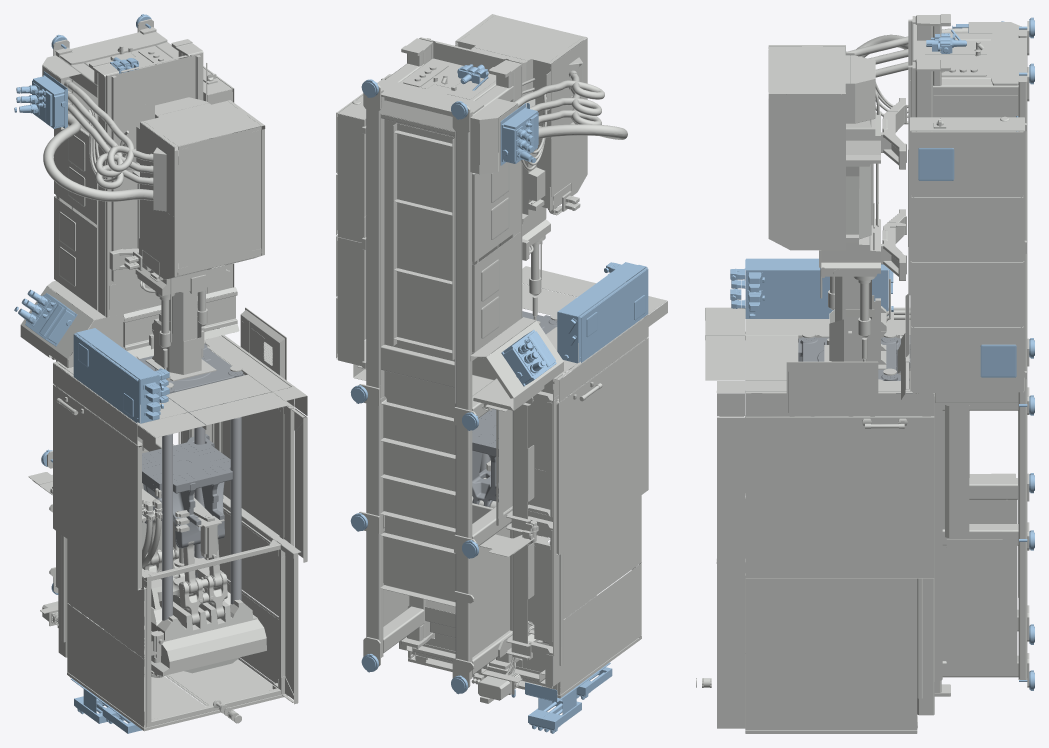
The model's file is imm-px-120.glb.
The picture shows the model from 3 angles, left to right: view 1: azimuth 30°, elevation 25°; view 2: azimuth 150°, elevation 25°; view 3: azimuth 270°, elevation 25°; orthographic projection. The views are drawn at different scales.
Parts seen in each view (by area): view 1: PX_0120-00380_M3_623035_ASM_mesh, PX_0120_M1_623035_ASM_mesh, PX_00380_M5_623035_ASM_mesh, 20884976_ASM_mesh, PX_0120-00380_M7_623035_ASM_mesh, 20861177_mesh, PX_ZE88-53004_88-53032_623035_ASM_mesh, 20893171_mesh, PX_0120_M8_623035_ASM_mesh, 20861819_mesh, 90522870_mesh, PX_0120-00380_C2_623035_ASM_mesh (+14 smaller); view 2: PX_0120_M1_623035_ASM_mesh, PX_0120-00380_M3_623035_ASM_mesh, PX_0120-00380_C2_623035_ASM_mesh, 20884976_ASM_mesh, PX_00380_M5_623035_ASM_mesh, PX_0120_C6_623035_ASM_mesh, PX_0120-00380_M7_623035_ASM_mesh, PX_ZE88-53004_88-53032_623035_ASM_mesh, 20893171_mesh, PX_0120_ZE02-508_623035_ASM_mesh, PX_SA200_623035_ASM_mesh, PX_0120_M2_M40_623035_ASM_mesh (+5 smaller); view 3: PX_0120-00380_M3_623035_ASM_mesh, PX_0120_M1_623035_ASM_mesh, PX_0120_C6_623035_ASM_mesh, PX_00380_M5_623035_ASM_mesh, PX_0120-00380_M7_623035_ASM_mesh, PX_ZE88-53004_88-53032_623035_ASM_mesh, PX_0120_ZE89-2001_623035_ASM_mesh, 20868069_mesh, PX_0120_ZE02-508_623035_ASM_mesh, PX_00380_M6_623035_ASM_mesh, PX_0120_M8_623035_ASM_mesh, PX_0120-00380_M4_623035_ASM_mesh (+1 smaller).
Boxes of the visible parts, <box> form: PX_0120-00380_M3_623035_ASM_mesh: <box>53,307,307,731</box>; PX_0120_M1_623035_ASM_mesh: <box>20,19,219,610</box>; PX_00380_M5_623035_ASM_mesh: <box>124,97,265,342</box>; 20884976_ASM_mesh: <box>53,384,141,590</box>; PX_0120-00380_M7_623035_ASM_mesh: <box>42,55,208,381</box>; 20861177_mesh: <box>99,551,266,676</box>; PX_ZE88-53004_88-53032_623035_ASM_mesh: <box>73,328,169,423</box>; 20893171_mesh: <box>142,434,232,548</box>; PX_0120_M8_623035_ASM_mesh: <box>123,287,239,358</box>; 20861819_mesh: <box>230,417,241,604</box>; 90522870_mesh: <box>162,434,172,620</box>; PX_0120-00380_C2_623035_ASM_mesh: <box>59,135,85,286</box>; PX_0120_M1_623035_ASM_mesh: <box>353,37,563,687</box>; PX_0120-00380_M3_623035_ASM_mesh: <box>399,266,667,698</box>; PX_0120-00380_C2_623035_ASM_mesh: <box>393,123,509,359</box>; 20884976_ASM_mesh: <box>556,337,648,555</box>; PX_00380_M5_623035_ASM_mesh: <box>455,14,587,279</box>; PX_0120_C6_623035_ASM_mesh: <box>336,74,392,366</box>; PX_0120-00380_M7_623035_ASM_mesh: <box>426,38,627,325</box>; PX_ZE88-53004_88-53032_623035_ASM_mesh: <box>557,262,648,363</box>; 20893171_mesh: <box>472,408,498,507</box>; PX_0120_ZE02-508_623035_ASM_mesh: <box>350,79,478,694</box>; PX_SA200_623035_ASM_mesh: <box>525,662,610,733</box>; PX_0120_M2_M40_623035_ASM_mesh: <box>471,460,566,703</box>; PX_0120-00380_M3_623035_ASM_mesh: <box>696,295,942,733</box>; PX_0120_M1_623035_ASM_mesh: <box>909,14,1029,696</box>; PX_0120_C6_623035_ASM_mesh: <box>910,116,1024,392</box>; PX_00380_M5_623035_ASM_mesh: <box>768,45,890,317</box>; PX_0120-00380_M7_623035_ASM_mesh: <box>827,19,1021,361</box>; PX_ZE88-53004_88-53032_623035_ASM_mesh: <box>730,258,893,318</box>; PX_0120_ZE89-2001_623035_ASM_mesh: <box>918,148,1016,377</box>; 20868069_mesh: <box>798,336,912,393</box>; PX_0120_ZE02-508_623035_ASM_mesh: <box>1019,17,1034,690</box>; PX_00380_M6_623035_ASM_mesh: <box>835,276,871,321</box>; PX_0120_M8_623035_ASM_mesh: <box>897,294,909,399</box>; PX_0120-00380_M4_623035_ASM_mesh: <box>871,41,983,225</box>.
Bounding box in the file's own units: 1843 × 5392 × 2356.
